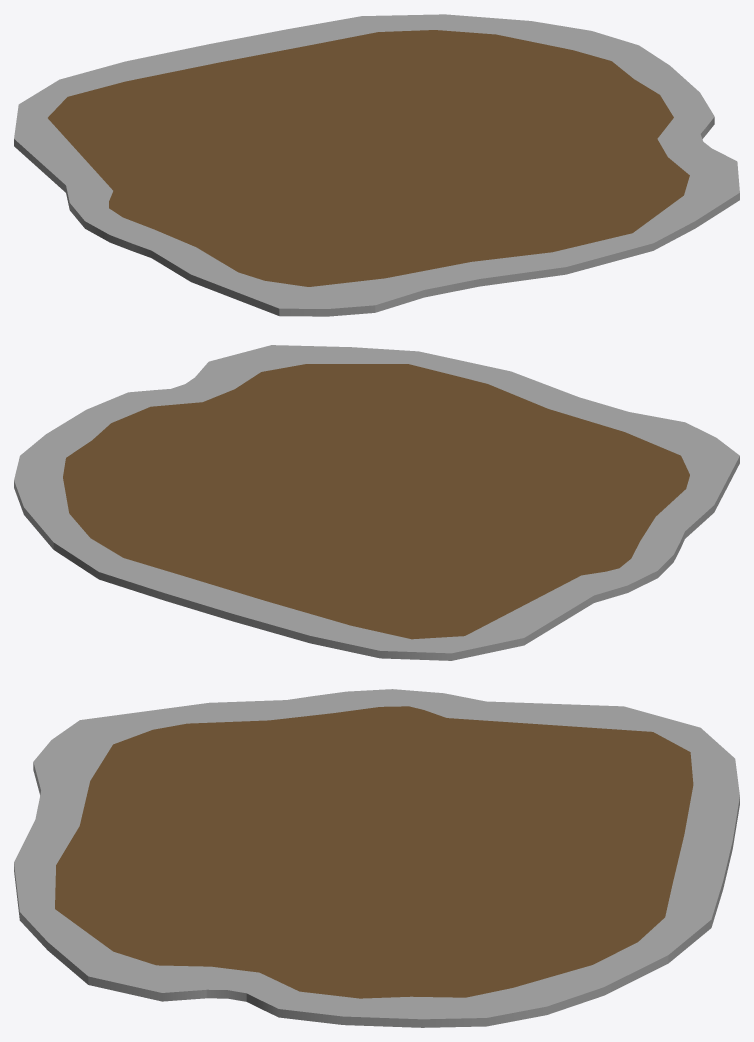
Rendered from DodgeballArena-base.fbx.
3 views of the same model, one above another, from view 1: azimuth 30°, elevation 25°; view 2: azimuth 150°, elevation 25°; view 3: azimuth 270°, elevation 25° (orthographic). The views are drawn at different scales.
Parts seen in each view (by area): view 1: DodgeballArena_base; view 2: DodgeballArena_base; view 3: DodgeballArena_base.
Boxes of the visible parts, left/top/right/bottom form: DodgeballArena_base: left=14, top=14, right=739, bottom=316; DodgeballArena_base: left=14, top=345, right=739, bottom=660; DodgeballArena_base: left=14, top=689, right=739, bottom=1027.
Bounding box in the file's own units: 10248 × 124 × 9522.
